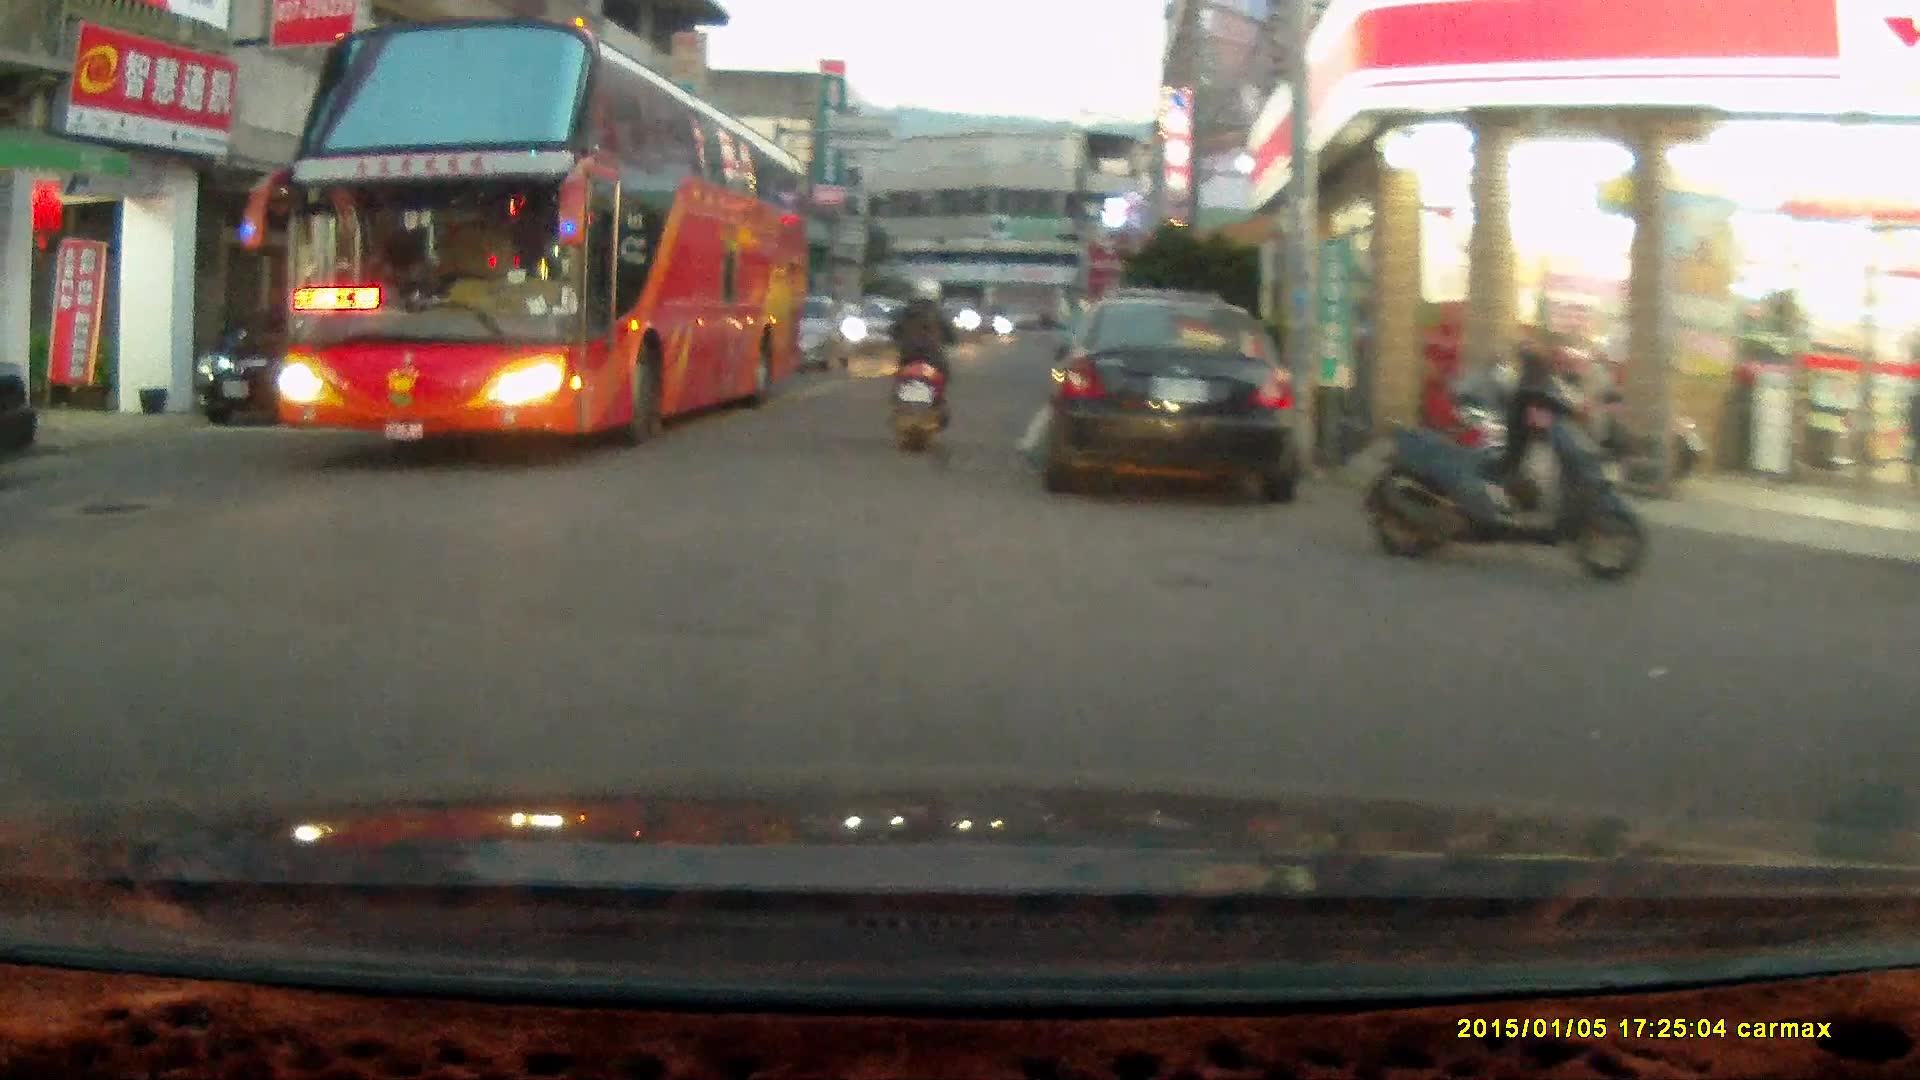rider: (876, 273, 955, 453)
vehicle: (264, 20, 813, 450), (1031, 289, 1306, 498), (190, 304, 377, 429)
